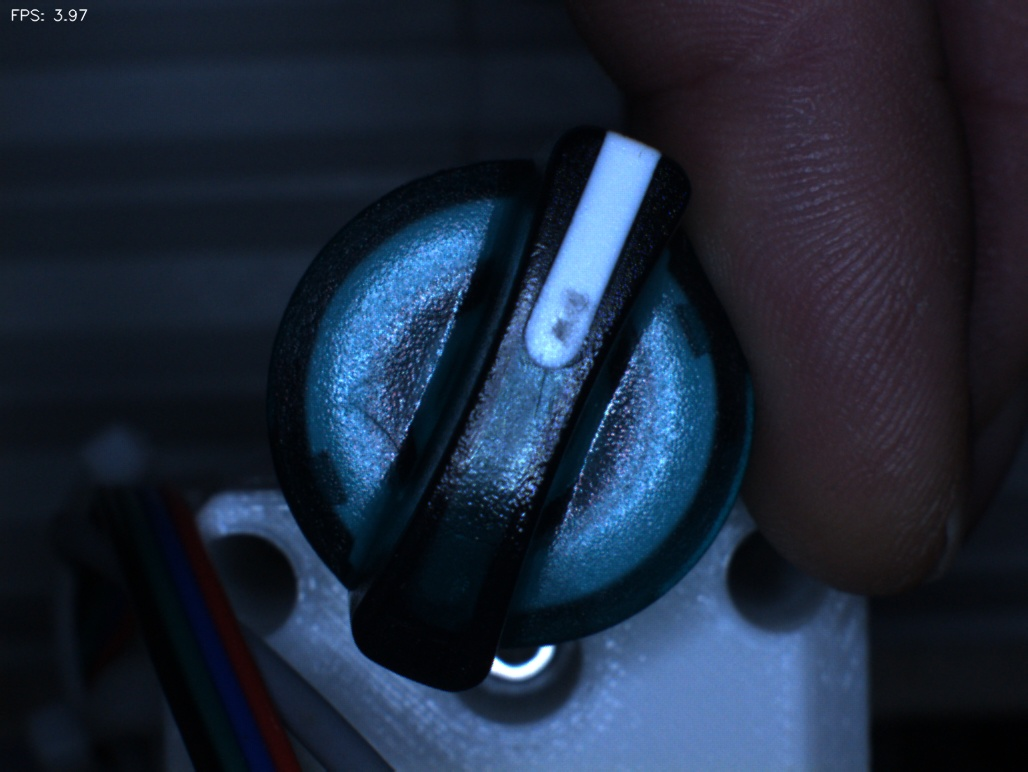PointNoir: (524, 277, 622, 366)
